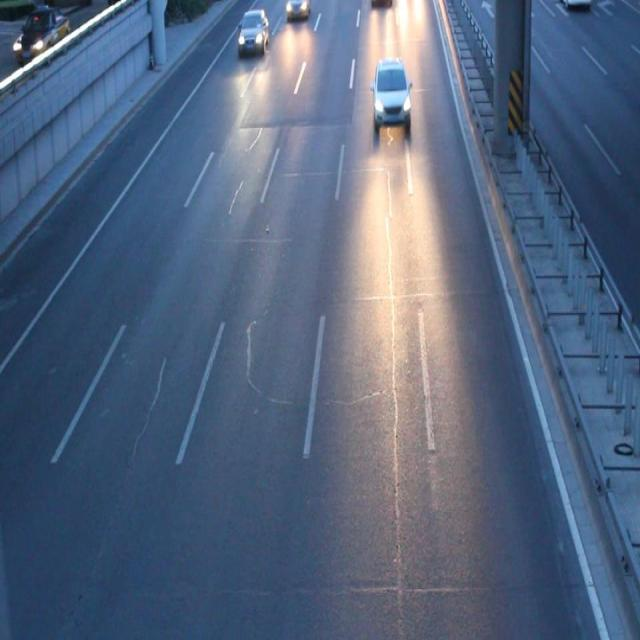car: (371, 58, 411, 133), (238, 10, 268, 55)
